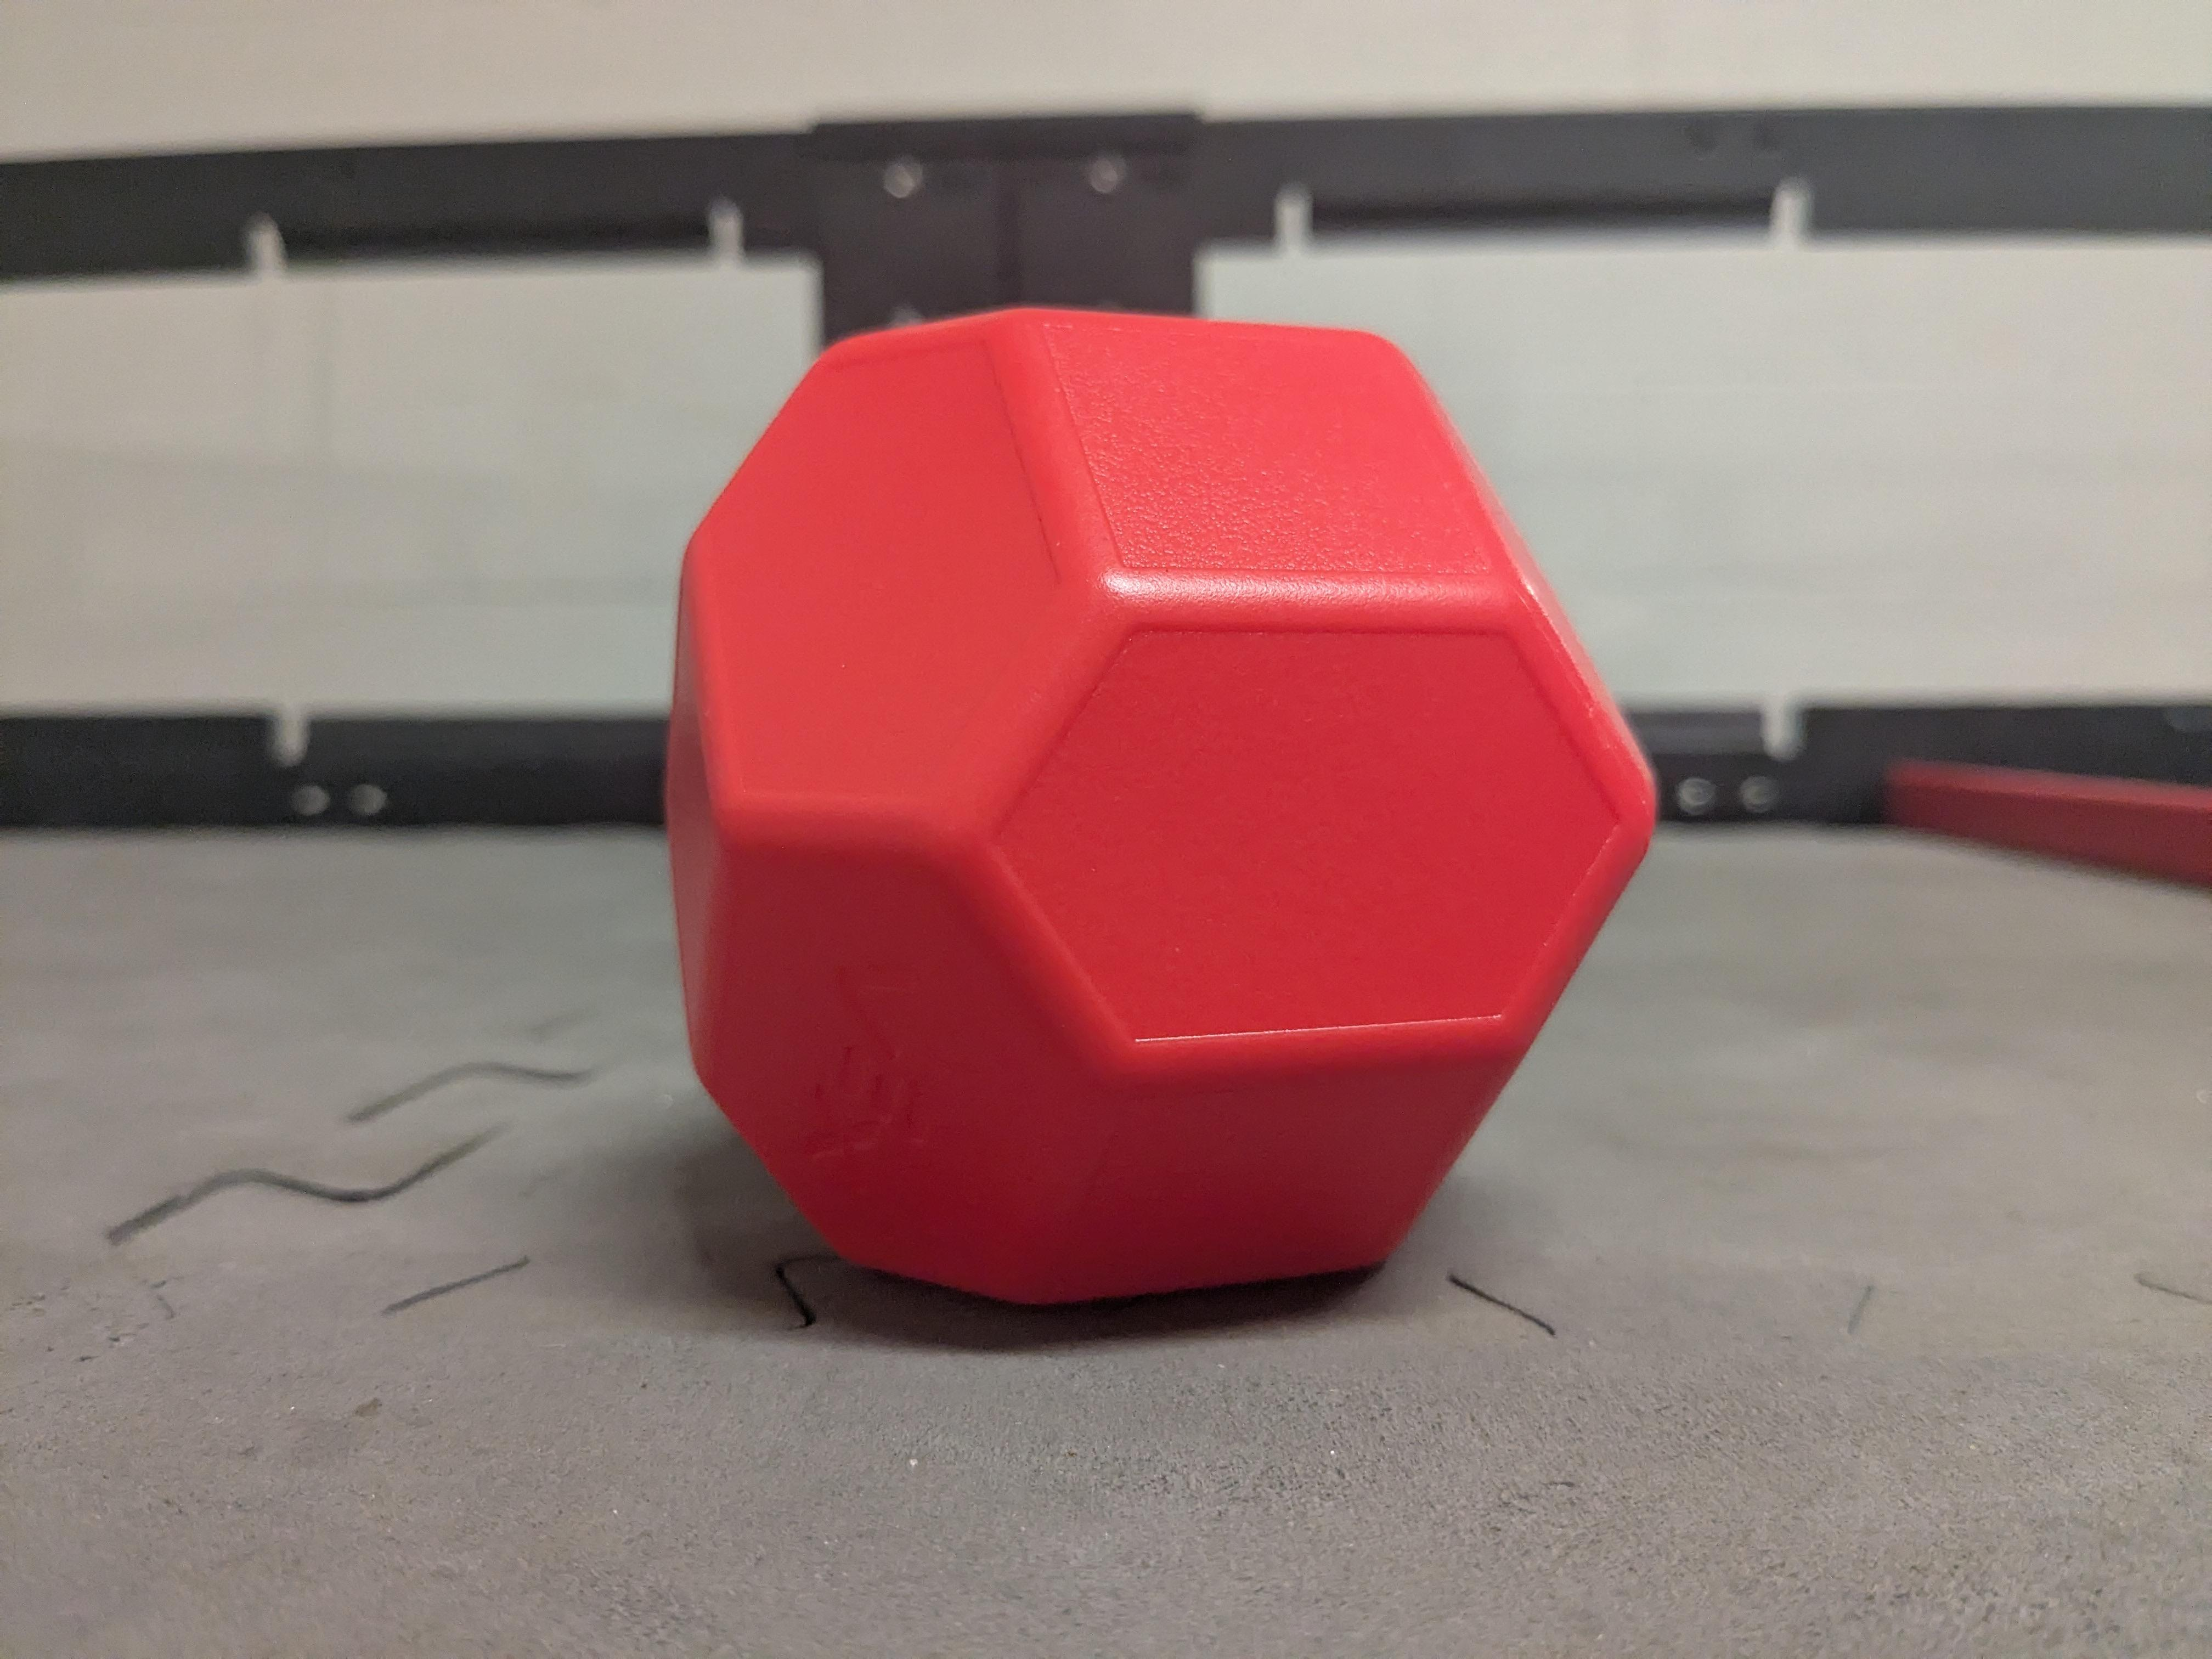Vex-Pieces-RED: (667, 310, 1653, 1304)
